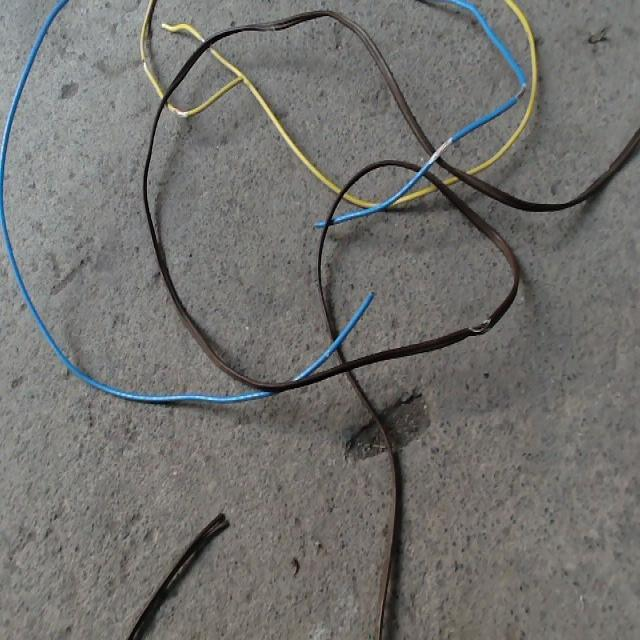-: (429, 135, 452, 161), (470, 317, 490, 332), (172, 105, 188, 116), (517, 84, 526, 97)
